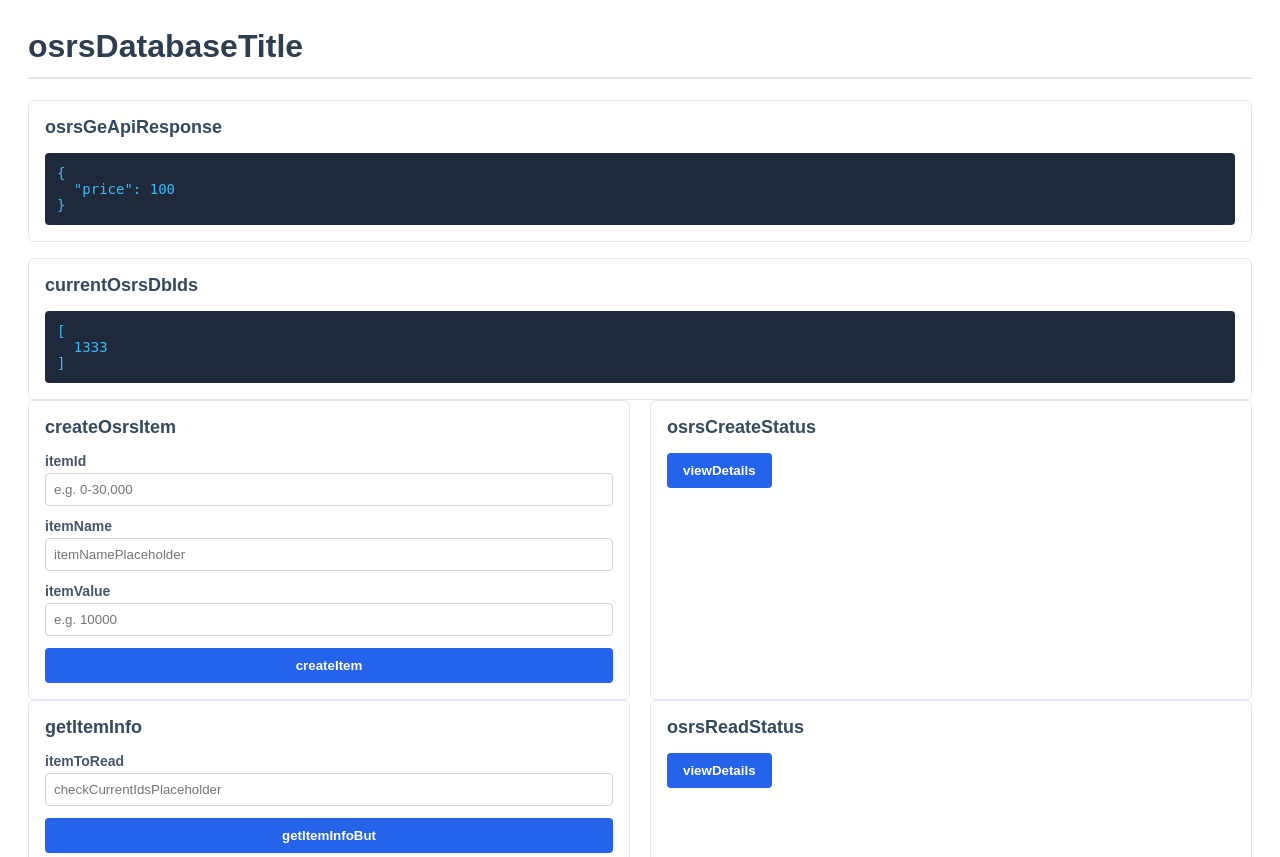
Test: OSRSPage Component Unit Tests › UI Displays 403 when we do not own the item
Note: Enter item ID
Step 1. Type "1333" into the number field with placeholder "checkCurrentIdsPlaceholder" → (329, 790), box 45,773 -> 613,806
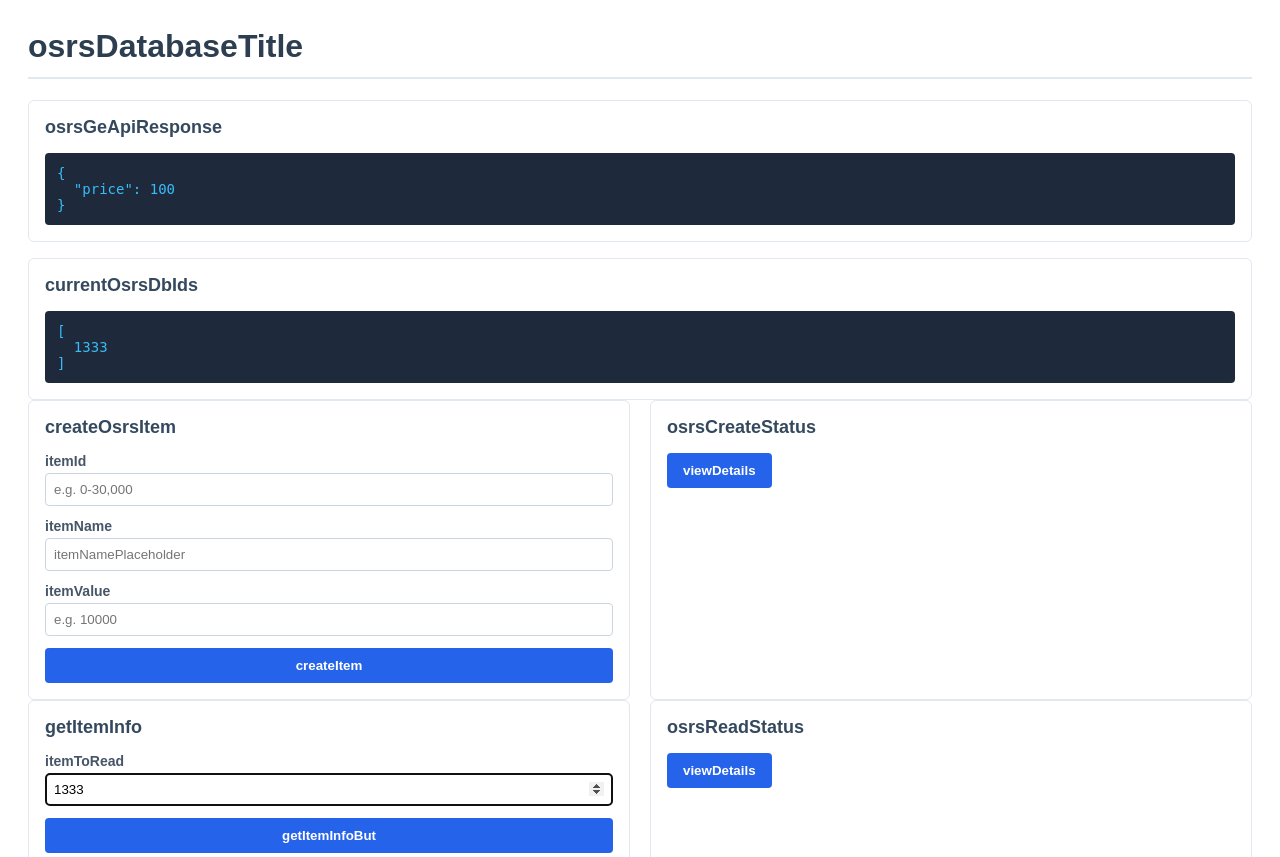
Note: Search for item
Step 2. Click the button "getItemInfoBut" → (329, 836), box 45,818 -> 613,853
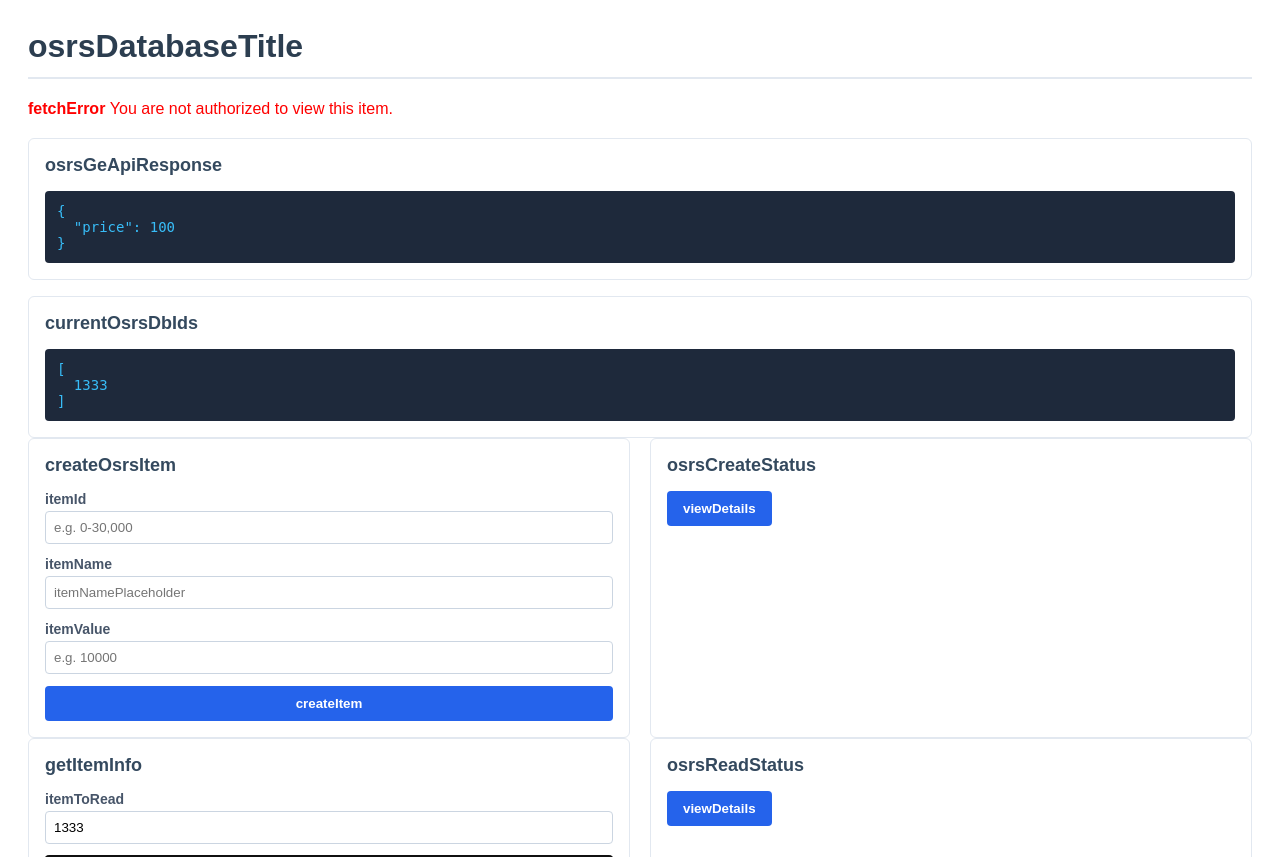
Expected: the text "You are not authorized to view this item." is shown, 110,100 -> 393,117
